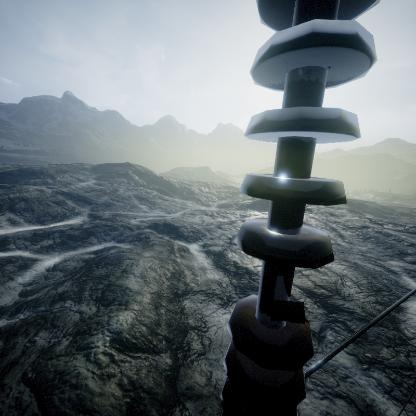insulator: (220, 1, 381, 416)
